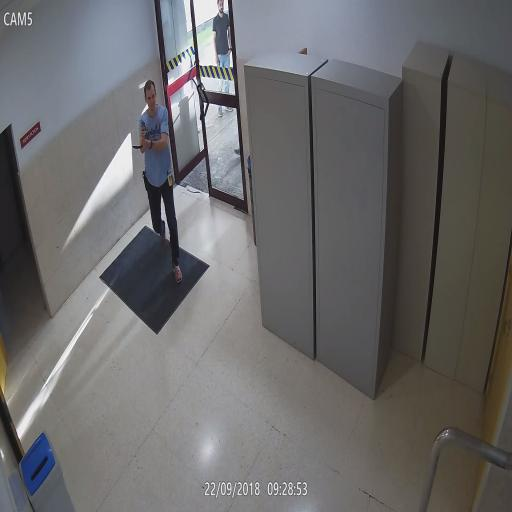Handgun: (138, 120, 150, 140)
